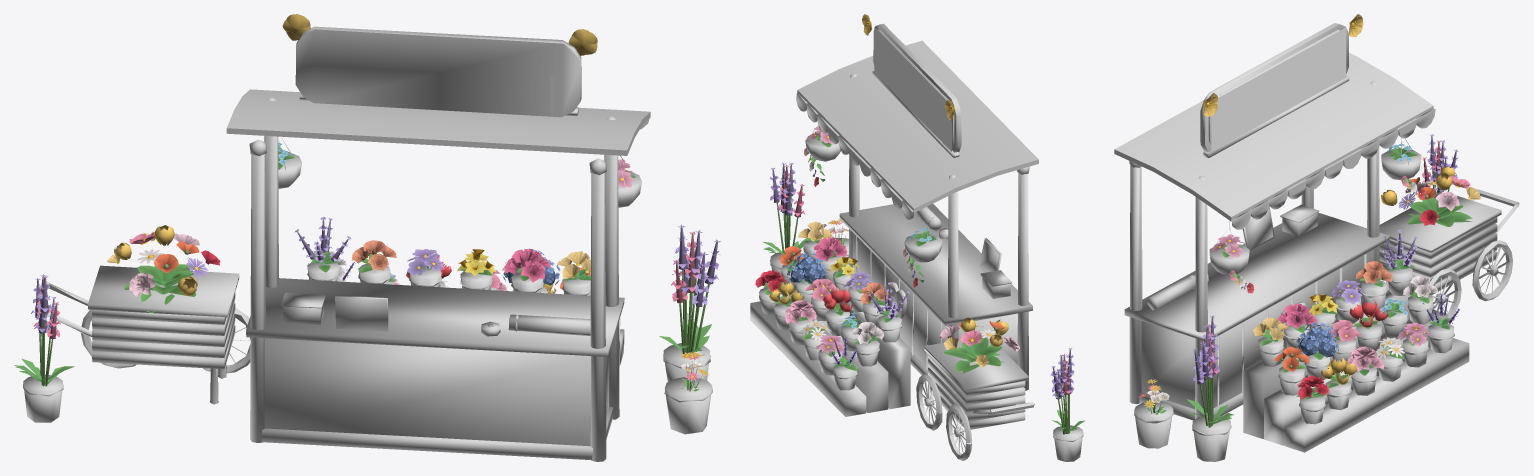
File: zon_bakery_stall_lite.glb
3 views of the same model, side by side, from view 1: azimuth 30°, elevation 25°; view 2: azimuth 150°, elevation 25°; view 3: azimuth 270°, elevation 25° (orthographic). The views are drawn at different scales.
Parts seen in each view (by area): view 1: SM_zon_bakery_stall_lite_kit_stall_xm1_z0, SM_zon_bakery_stall_lite_vc_palette_xm1_z0; view 2: SM_zon_bakery_stall_lite_kit_stall_xm1_z0, SM_zon_bakery_stall_lite_vc_palette_xm1_z0, SCREEN_prp_stall_sign__0; view 3: SM_zon_bakery_stall_lite_kit_stall_xm1_z0, SM_zon_bakery_stall_lite_vc_palette_xm1_z0, SCREEN_prp_stall_sign__0.
Boxes of the visible parts, x1,y1,x2,y2 form: SM_zon_bakery_stall_lite_kit_stall_xm1_z0: (23, 26, 712, 461); SM_zon_bakery_stall_lite_vc_palette_xm1_z0: (14, 14, 720, 391); SM_zon_bakery_stall_lite_kit_stall_xm1_z0: (750, 23, 1083, 461); SM_zon_bakery_stall_lite_vc_palette_xm1_z0: (755, 14, 1085, 434); SCREEN_prp_stall_sign__0: (874, 27, 951, 151); SM_zon_bakery_stall_lite_kit_stall_xm1_z0: (1114, 23, 1519, 461); SM_zon_bakery_stall_lite_vc_palette_xm1_z0: (1138, 14, 1480, 427); SCREEN_prp_stall_sign__0: (1211, 28, 1346, 151).
Bounding box in the file's own units: 5.26 × 3.54 × 4.02.
